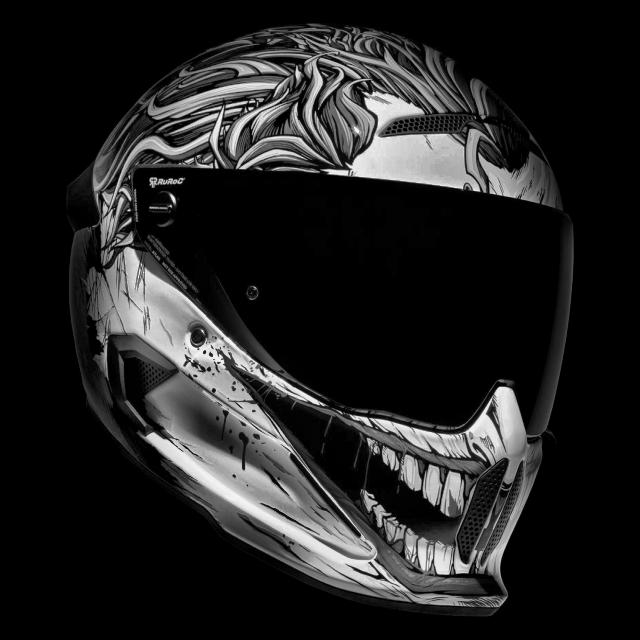Helmet: (84, 20, 603, 624)
